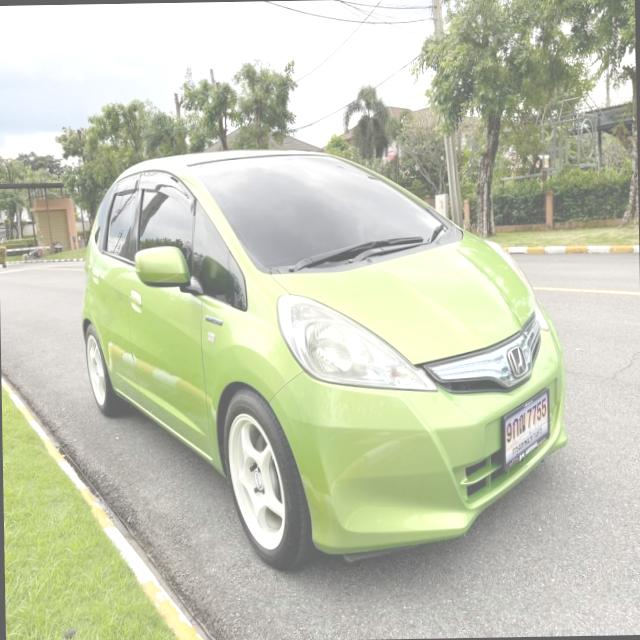license_plate: (498, 386, 552, 476)
